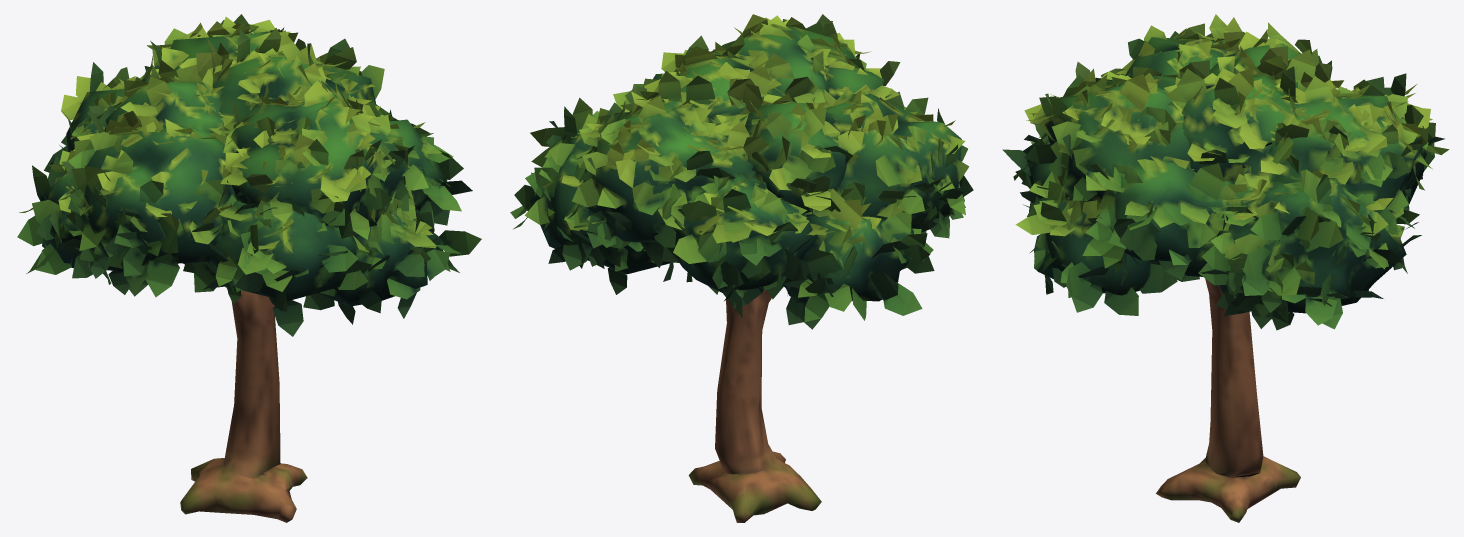
The model's file is tree_b.glb.
3 renders of one model, left to right at view 1: azimuth 30°, elevation 25°; view 2: azimuth 150°, elevation 25°; view 3: azimuth 270°, elevation 25°, orthographic.
Parts seen in each view (by area): view 1: tree_b; view 2: tree_b; view 3: tree_b.
Boxes of the visible parts, left/top/right/bottom form: tree_b: left=17, top=14, right=481, bottom=522; tree_b: left=510, top=14, right=973, bottom=522; tree_b: left=1002, top=14, right=1449, bottom=522.
Bounding box in the file's own units: 4.81 × 5.21 × 4.68.
Materials: 1 (1 with a texture image).
